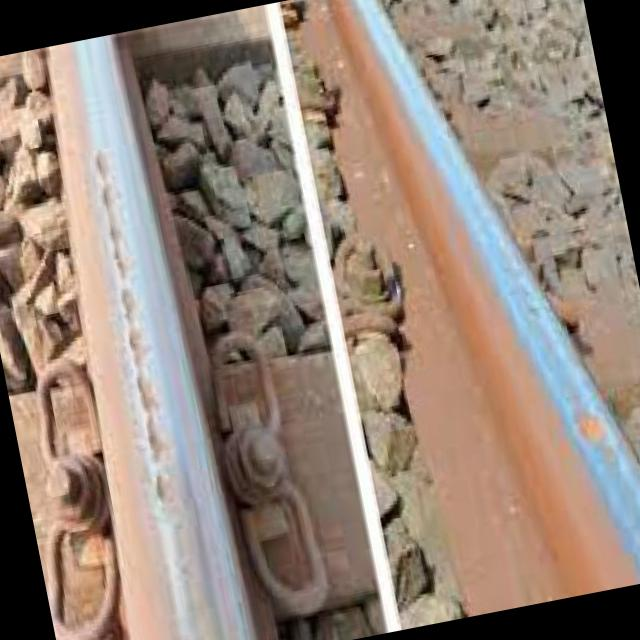non-defective: (14, 0, 628, 640)
